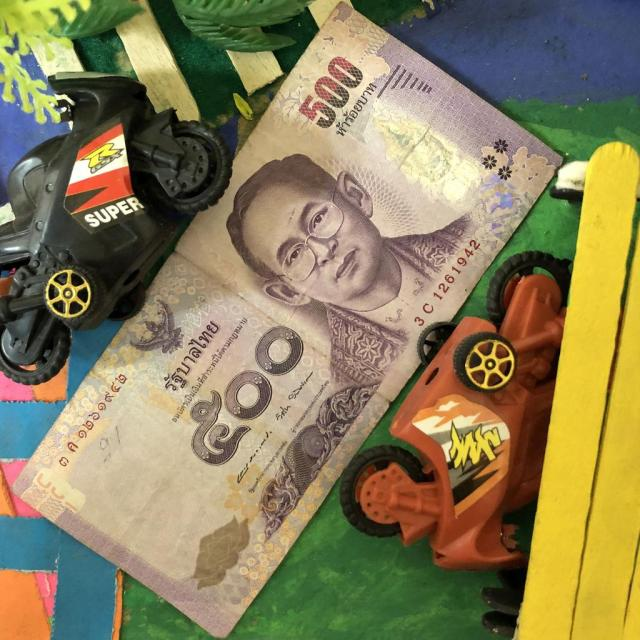THAI500: (19, 4, 560, 636)
